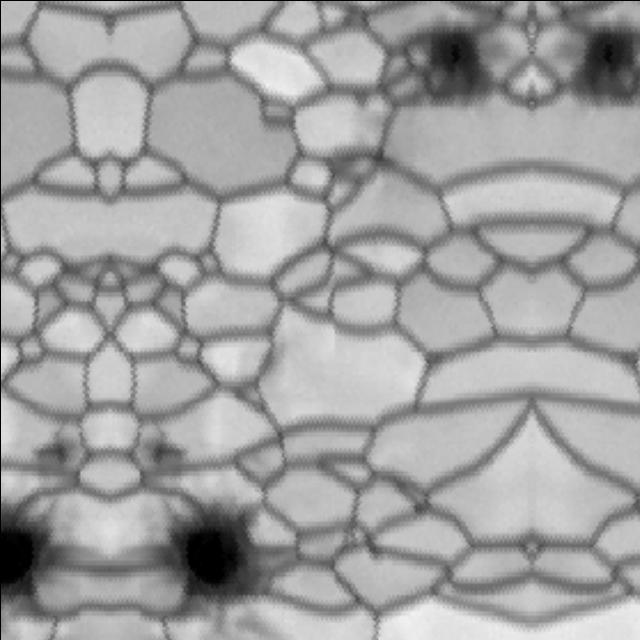good_void: (162, 495, 270, 628), (416, 17, 524, 123), (540, 17, 640, 123), (0, 495, 58, 626), (28, 418, 88, 474), (132, 418, 191, 474)
